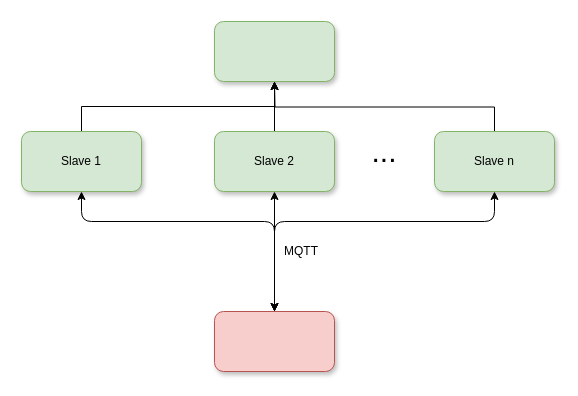
Some shapes in this 578 by 396 pixel diagram are drawn without their labels. The shapes that lost their labels are listed below. From the top down, each one's centre as x and y in pixels, then its label:
[275,52]: Master
[275,342]: Dojot
